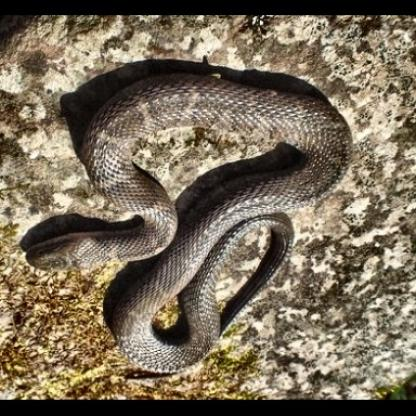Snake: (12, 54, 357, 366)
